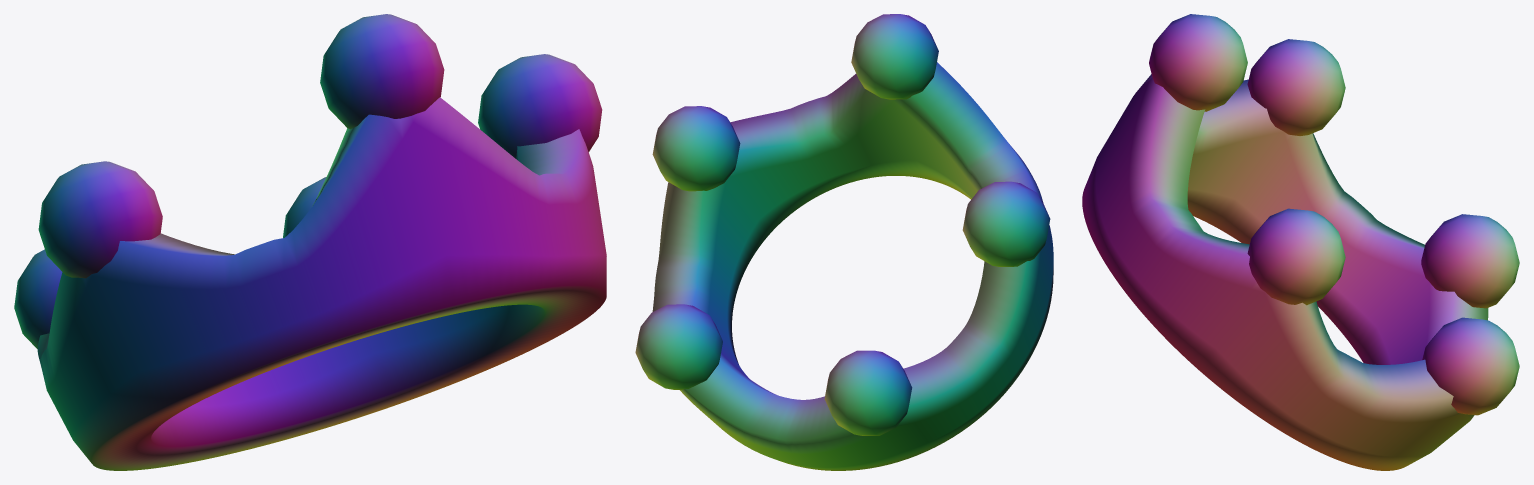
The model's file is SM_FX_EliteCrown.fbx.
The picture shows the model from 3 angles, left to right: view 1: azimuth 30°, elevation 25°; view 2: azimuth 150°, elevation 25°; view 3: azimuth 270°, elevation 25°; orthographic projection. The views are drawn at different scales.
Parts seen in each view (by area): view 1: SM_FX_EliteCrown; view 2: SM_FX_EliteCrown; view 3: SM_FX_EliteCrown.
Part boxes in pixels (<box>): SM_FX_EliteCrown: <box>14,14,606,470</box>; SM_FX_EliteCrown: <box>635,14,1053,470</box>; SM_FX_EliteCrown: <box>1082,14,1519,470</box>.
Bounding box in the file's own units: 0.3667 × 0.3426 × 0.3222.
